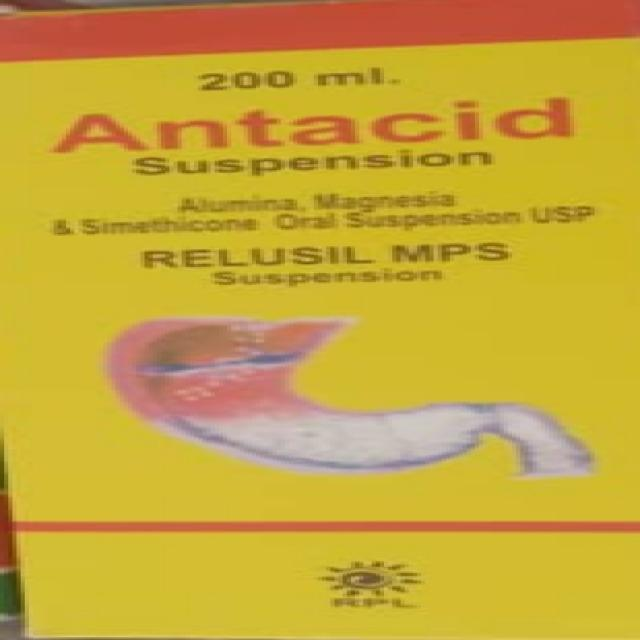drug-name: (26, 102, 599, 150)
